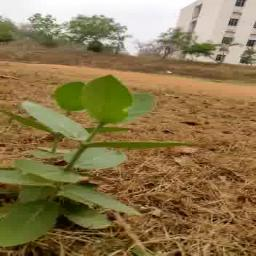CALOTROPIS: (0, 76, 157, 248)
